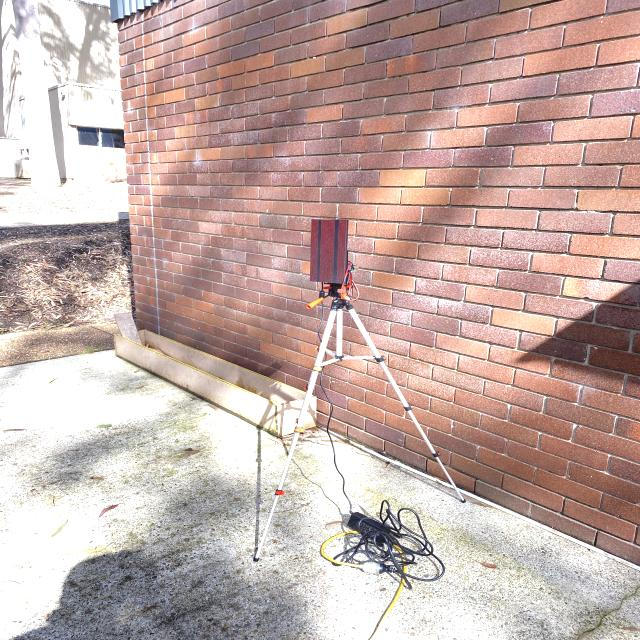matrix: (308, 216, 350, 286)
